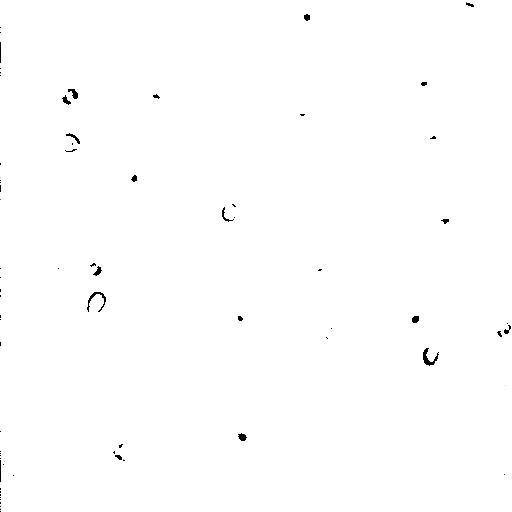micro-algae: (157, 0, 264, 91), (194, 168, 282, 257), (253, 0, 337, 67), (386, 260, 455, 327), (359, 0, 420, 52), (487, 241, 512, 308), (245, 0, 287, 39), (219, 269, 259, 307), (411, 71, 446, 107), (47, 81, 84, 115), (301, 255, 338, 289), (40, 20, 76, 54), (109, 437, 141, 466), (117, 159, 147, 188), (43, 260, 73, 289), (288, 92, 316, 122), (417, 120, 445, 149), (248, 261, 276, 289), (223, 302, 252, 329), (2, 454, 28, 483), (229, 419, 255, 445), (316, 319, 341, 343), (219, 89, 245, 111), (404, 306, 427, 329), (85, 289, 106, 314), (496, 372, 511, 405), (59, 132, 82, 153), (83, 256, 103, 279), (295, 5, 318, 24), (220, 201, 239, 223), (423, 344, 441, 367), (438, 213, 457, 234), (493, 317, 511, 339), (495, 460, 511, 484), (464, 0, 483, 8)
